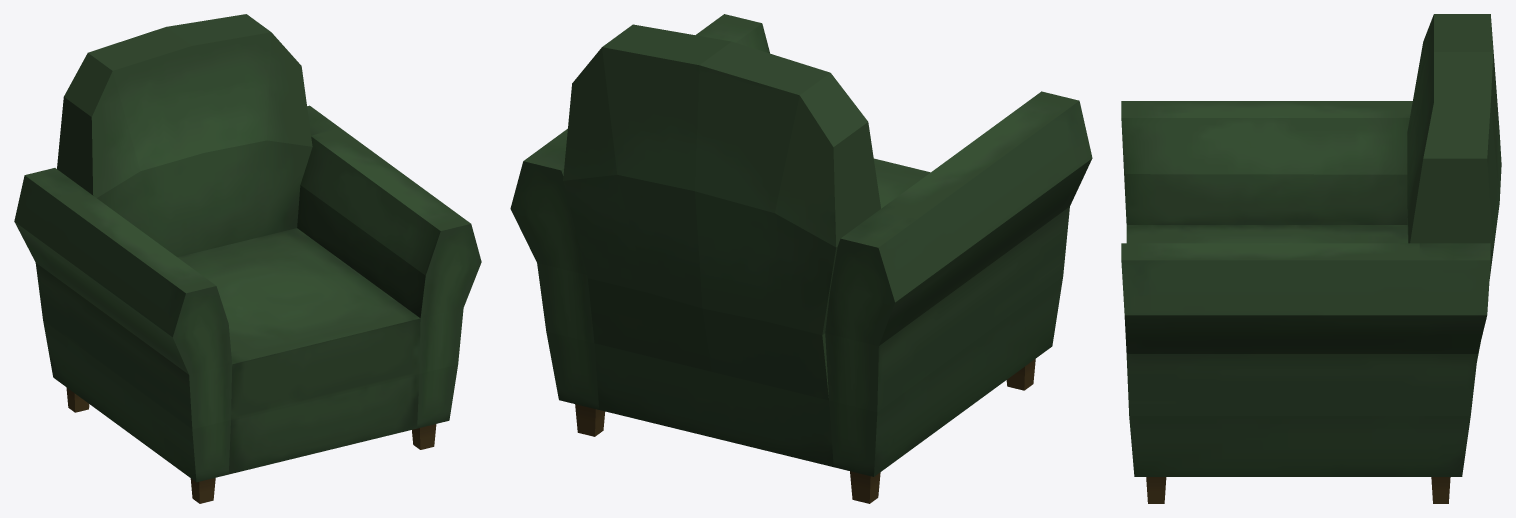
The model's file is Armchair.fbx.
3 renders of one model, left to right at view 1: azimuth 30°, elevation 25°; view 2: azimuth 150°, elevation 25°; view 3: azimuth 270°, elevation 25°, orthographic. The views are drawn at different scales.
Parts seen in each view (by area): view 1: Armchair; view 2: Armchair; view 3: Armchair.
Part boxes in pixels (x1,y1,x2,y2): Armchair: (14, 14, 481, 503); Armchair: (510, 14, 1092, 503); Armchair: (1121, 14, 1501, 503).
Bounding box in the file's own units: 115 × 120 × 107.
Materials: 1 (1 with a texture image).
